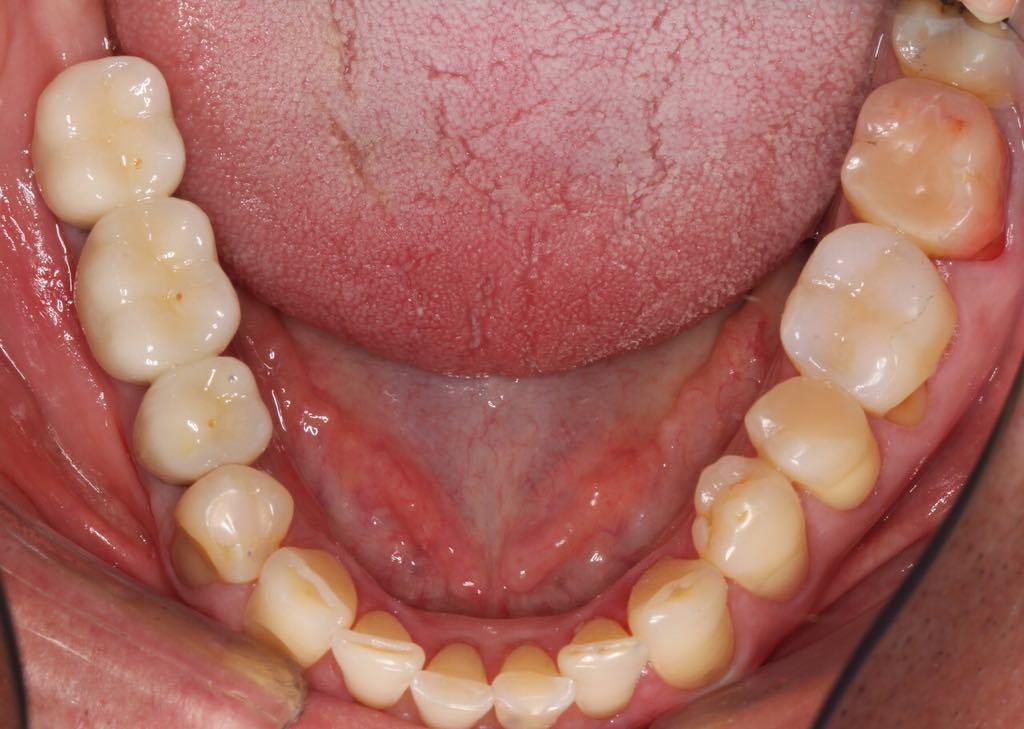LL1BC_decay: (689, 453, 812, 601)
LL1M_healthy: (783, 222, 956, 426)
LL2BC_healthy: (745, 376, 886, 511)
LL2M_decay: (838, 79, 1024, 260)
LLCI_healthy: (488, 642, 574, 729)
LLC_decay: (626, 555, 738, 689)
LLLI_healthy: (553, 613, 649, 716)
LR1BC_decay: (165, 461, 300, 593)
LR1M_healthy: (69, 198, 246, 393)
LR2BC_healthy: (127, 362, 275, 497)
LR2M_healthy: (27, 53, 186, 230)
LR3M_decay: (877, 1, 1024, 86)
LRCI_healthy: (413, 639, 496, 728)
LRC_decay: (245, 549, 363, 670)
LRLI_decay: (329, 608, 434, 717)
